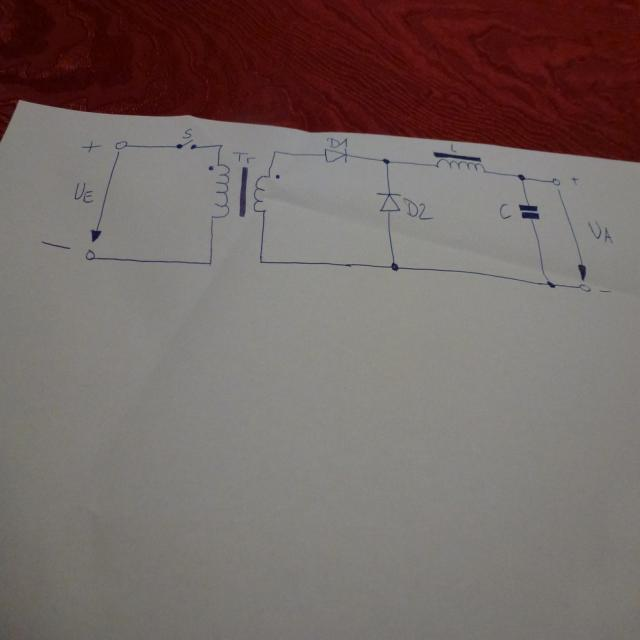capacitor: (516, 202, 541, 221)
diode: (375, 189, 404, 213), (323, 147, 348, 165)
inductor: (431, 149, 487, 174)
junction: (543, 277, 555, 290), (380, 154, 392, 166), (516, 170, 526, 182), (390, 260, 399, 273), (256, 256, 264, 264), (215, 142, 223, 150), (207, 258, 213, 267), (271, 148, 277, 154)
switch: (175, 138, 197, 150)
terminal: (83, 246, 97, 262), (113, 137, 128, 150), (578, 282, 592, 292), (550, 176, 562, 186)
text: (586, 218, 614, 244), (403, 197, 434, 220), (71, 180, 94, 203), (231, 149, 258, 164), (497, 200, 512, 221), (326, 136, 348, 148), (180, 126, 193, 140), (449, 142, 458, 154)
transformer: (204, 162, 281, 220)
